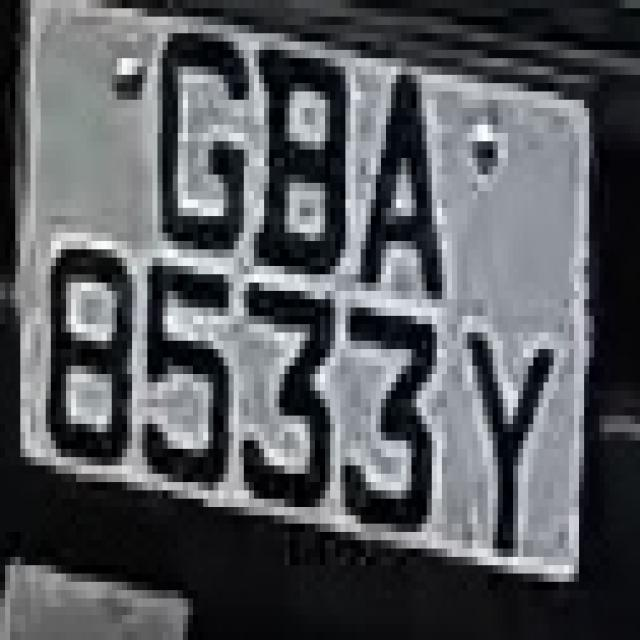3: (239, 241, 335, 524), (350, 282, 442, 548)
5: (132, 249, 234, 507)
8: (41, 216, 142, 490)
A: (350, 50, 468, 291)
B: (254, 25, 356, 274)
G: (142, 8, 249, 258)
Y: (457, 299, 564, 582)
